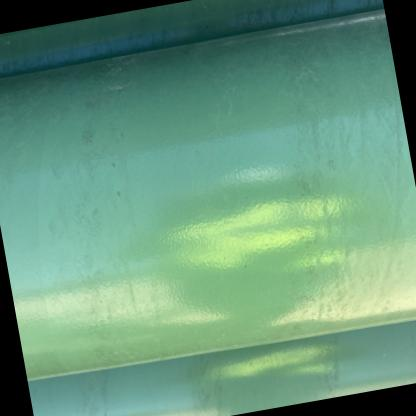clean: (127, 88, 217, 180)
